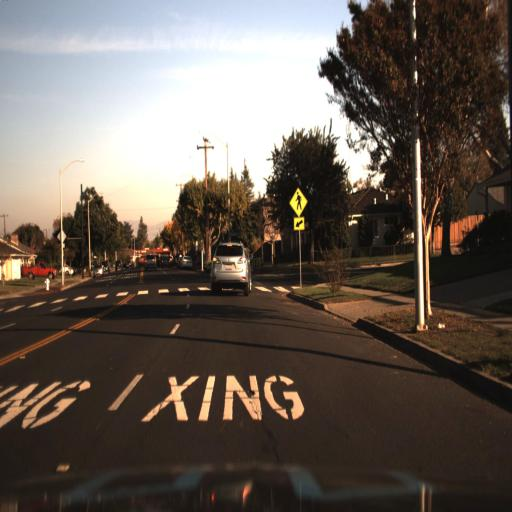car: (212, 236, 250, 300), (19, 259, 55, 277), (142, 250, 158, 272)
